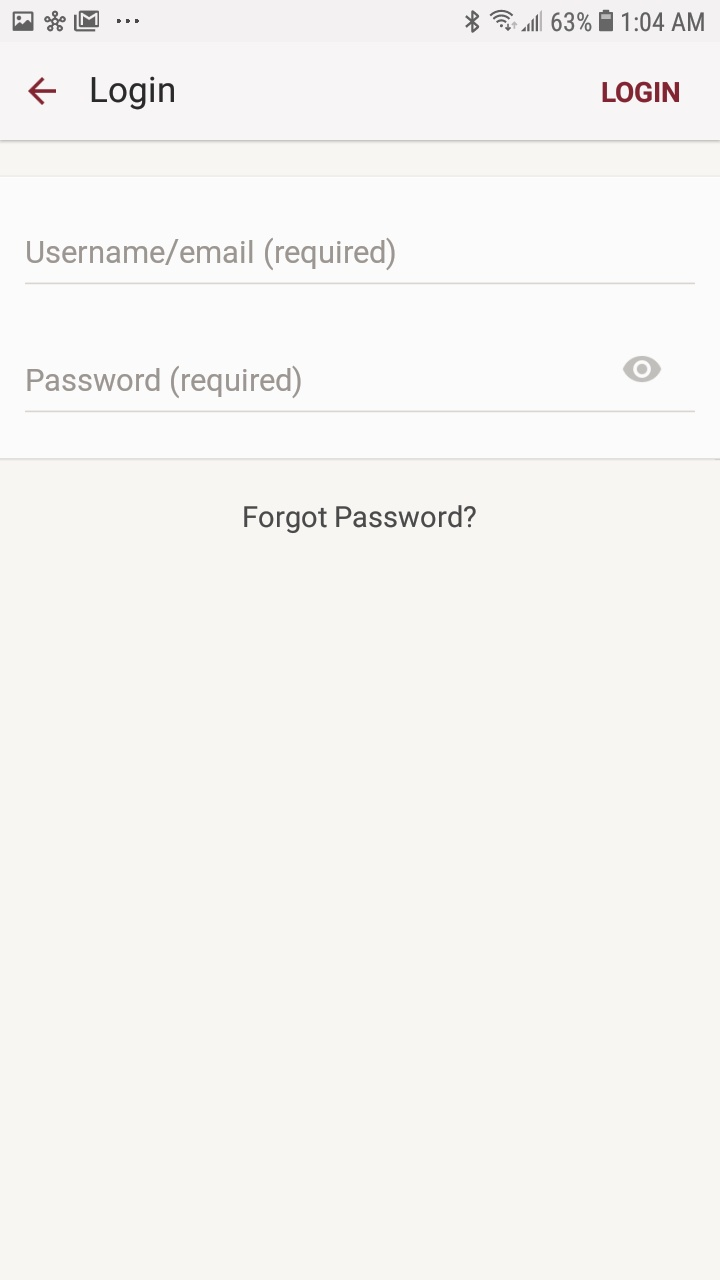EditText: (25, 356, 696, 414), (25, 238, 696, 286)
Icon: (622, 356, 662, 383), (29, 77, 58, 106)
Text: (27, 238, 396, 272), (27, 365, 302, 399), (243, 505, 477, 535), (91, 76, 175, 111), (602, 81, 680, 104)
UpperTaskBar: (1, 1, 720, 43)
